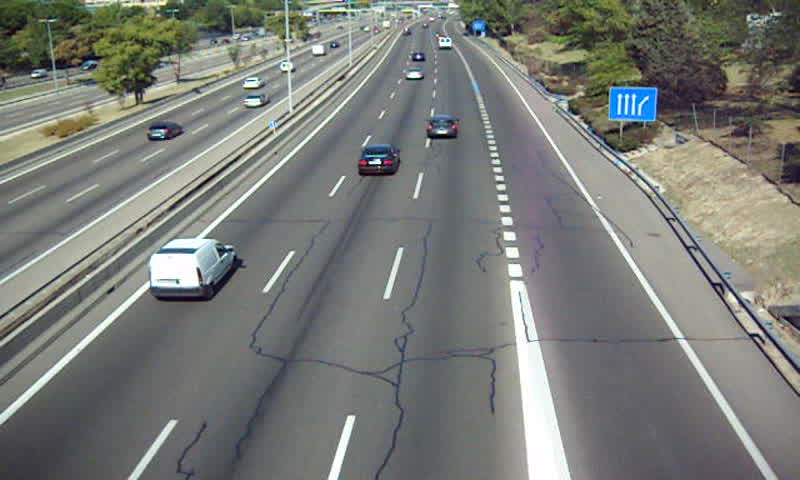car: (357, 146, 399, 175), (426, 117, 459, 140), (404, 67, 424, 81)
van: (149, 238, 236, 299)
